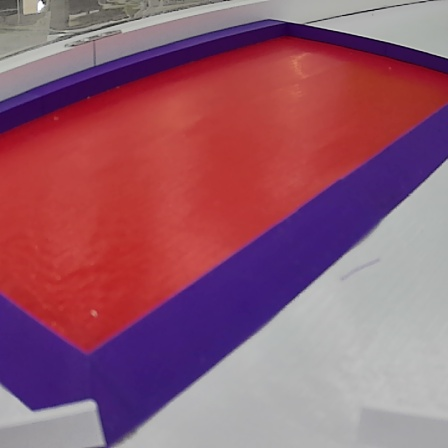red_aim: (2, 19, 448, 448)
